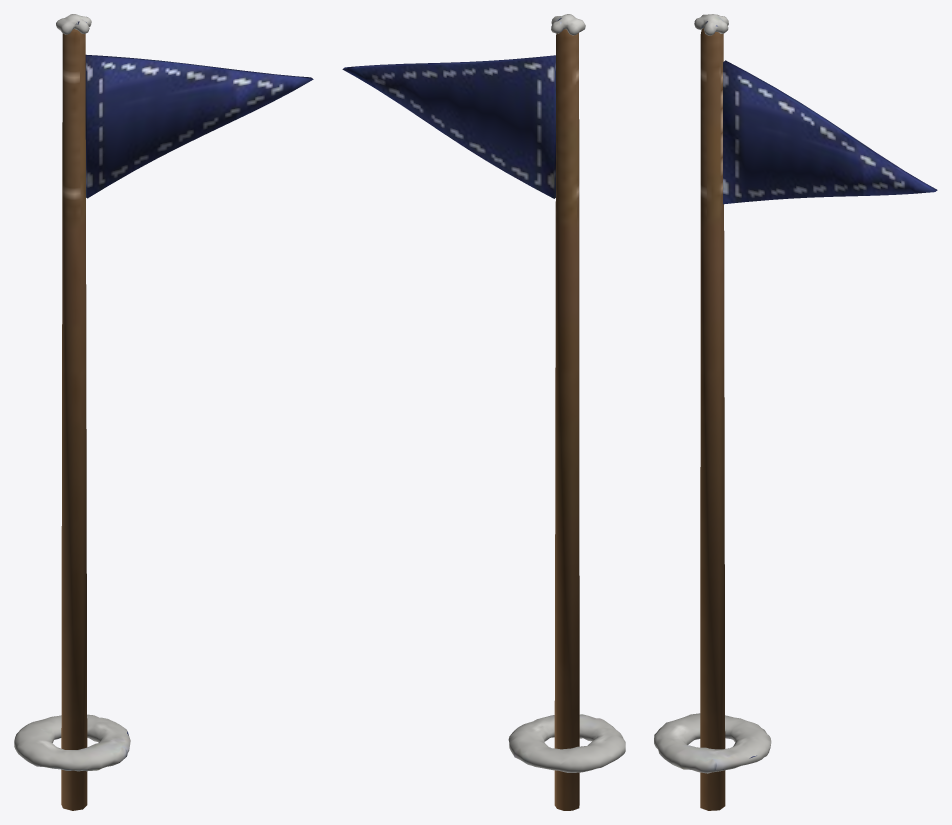
The model's file is flag_navy.glb.
The picture shows the model from 3 angles, left to right: view 1: azimuth 30°, elevation 25°; view 2: azimuth 150°, elevation 25°; view 3: azimuth 330°, elevation 25°; orthographic projection.
Visible parts, largest first — view 1: prop_flag_navy_felt, prop_flag_navy_wood; view 2: prop_flag_navy_felt, prop_flag_navy_wood; view 3: prop_flag_navy_felt, prop_flag_navy_wood.
Boxes of the visible parts, <box> form: prop_flag_navy_felt: <box>14,14,313,771</box>; prop_flag_navy_wood: <box>61,29,87,810</box>; prop_flag_navy_felt: <box>342,14,625,772</box>; prop_flag_navy_wood: <box>554,29,579,810</box>; prop_flag_navy_felt: <box>654,14,937,773</box>; prop_flag_navy_wood: <box>700,28,725,810</box>.
Bounding box in the file's own units: 0.7103 × 1.89 × 0.2504.
Materials: 2 (2 with a texture image).
